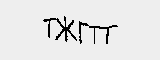Г: (76, 19, 88, 46)
Ж: (52, 14, 76, 44)
Т: (98, 21, 120, 49), (39, 14, 56, 44), (87, 23, 102, 48)
